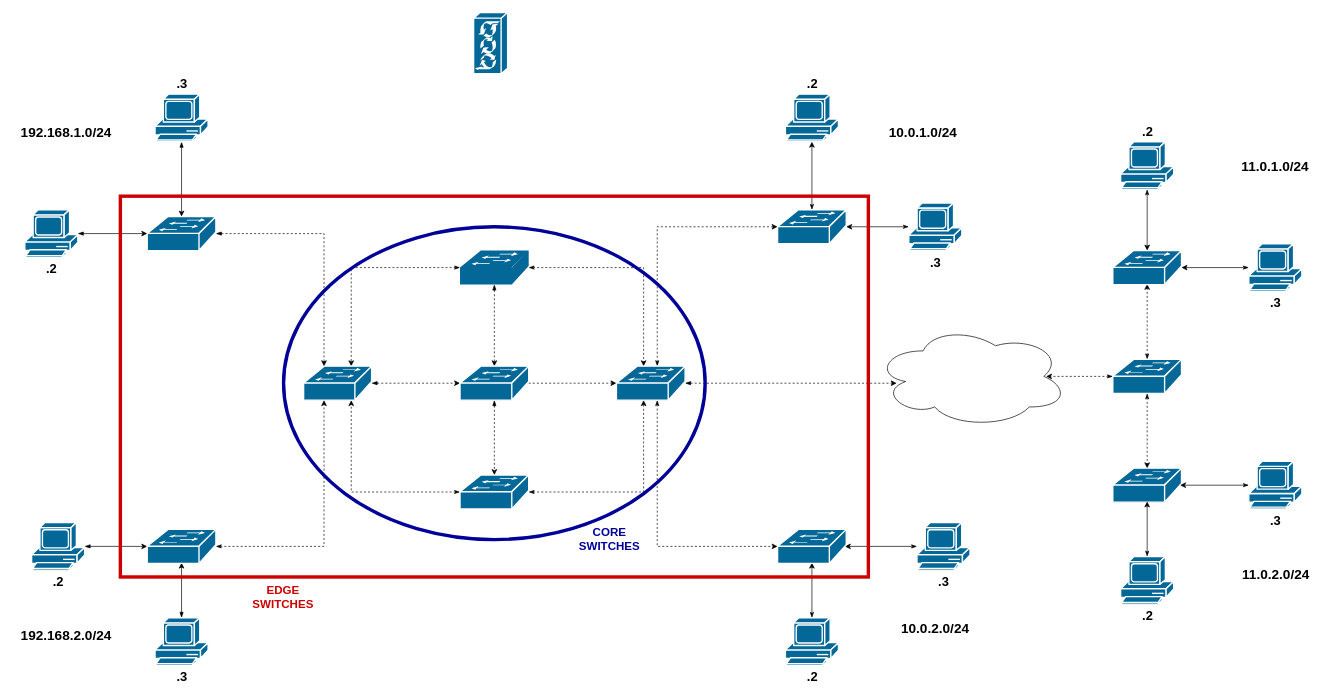
Image size: 1342x697. Some labels were removed from this diagram. The shapes that lost their labels are listed below. From the top down, each one's centre as x and y in pixels, then its label:
(x=490, y=43): CONTROLLER
(x=971, y=376): INTERNET
